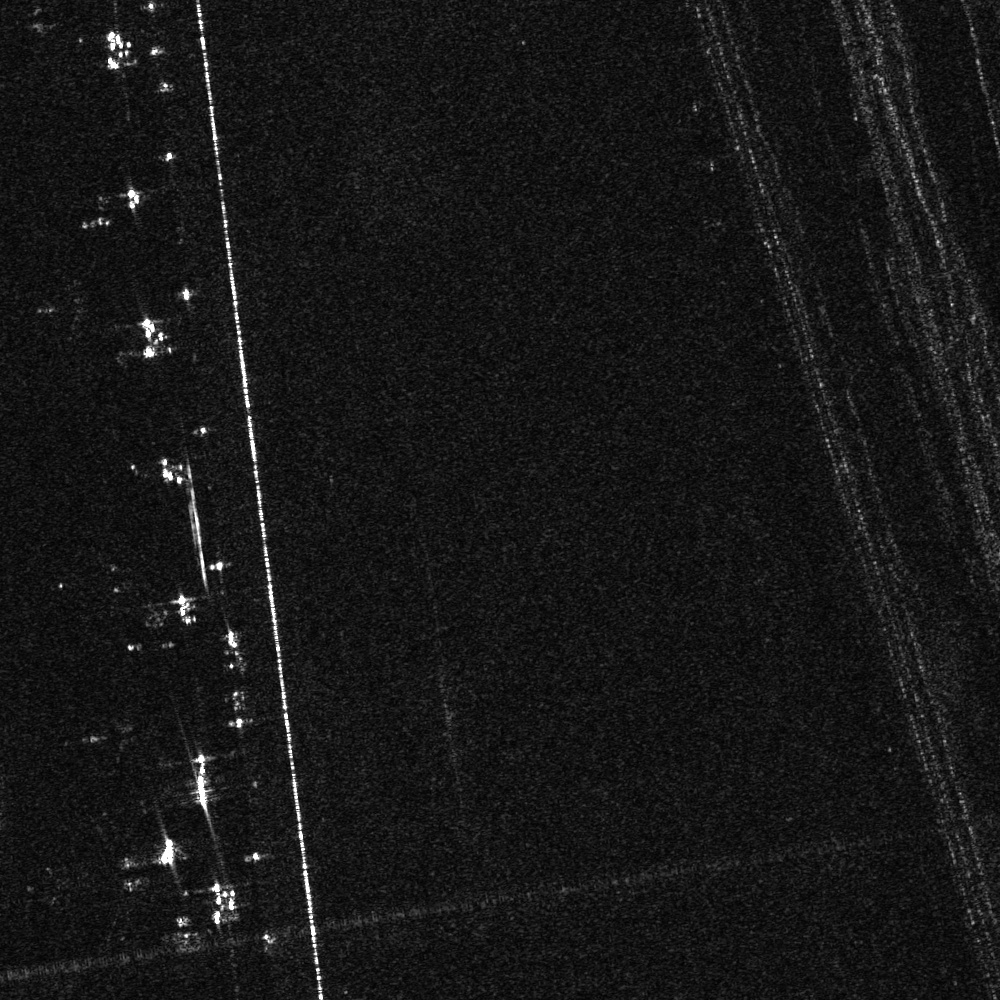A220: (62, 698, 150, 777)
A330: (45, 813, 158, 942)
Boeing787: (29, 268, 106, 344)
